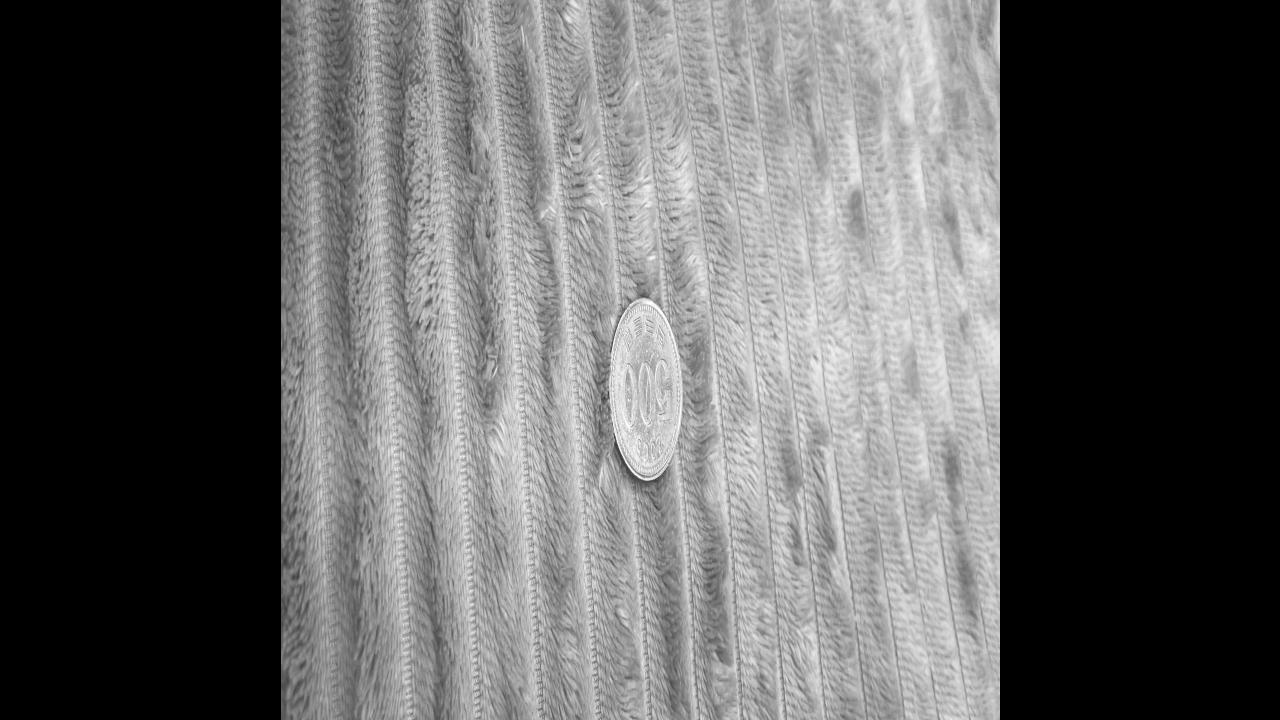coin: (608, 297, 682, 481)
